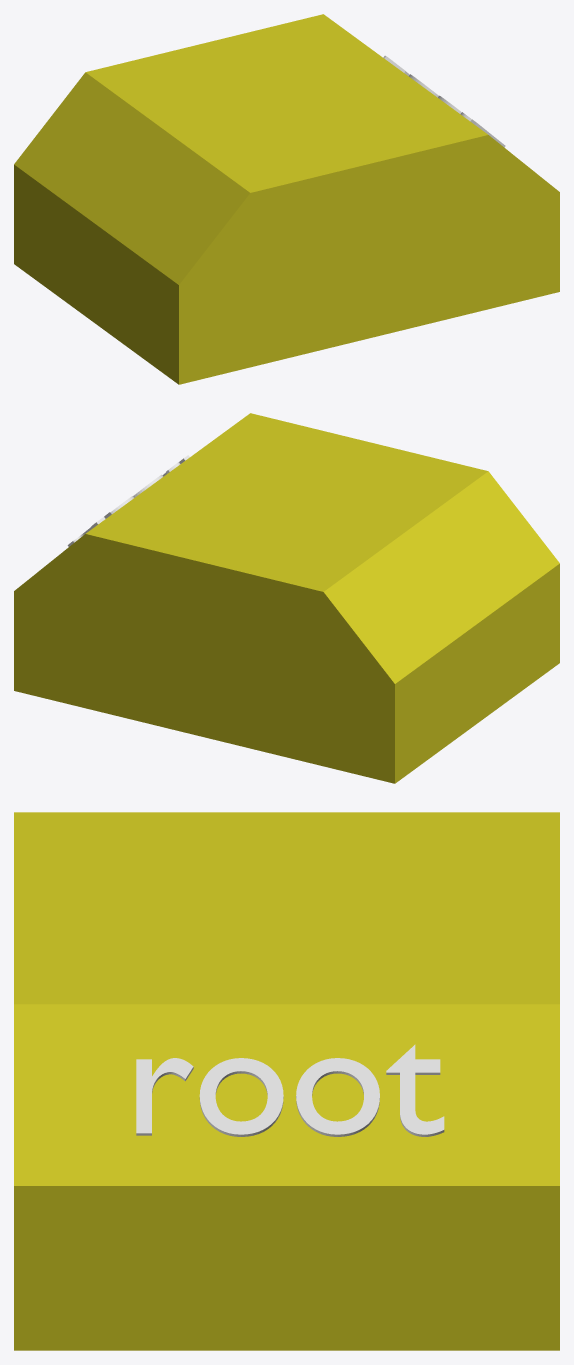
3 renders of one model, top to bottom at view 1: azimuth 30°, elevation 25°; view 2: azimuth 150°, elevation 25°; view 3: azimuth 270°, elevation 25°, orthographic. The views are drawn at different scales.
Visible parts, largest first — view 1: Root_Chassis; view 2: Root_Chassis; view 3: Root_Chassis.
Boxes of the visible parts, bbox=[...] form: Root_Chassis: bbox=[14, 14, 559, 384]; Root_Chassis: bbox=[14, 413, 559, 783]; Root_Chassis: bbox=[14, 812, 559, 1350].
Size of the model in its own units: 0.8 by 0.6 by 0.35.
